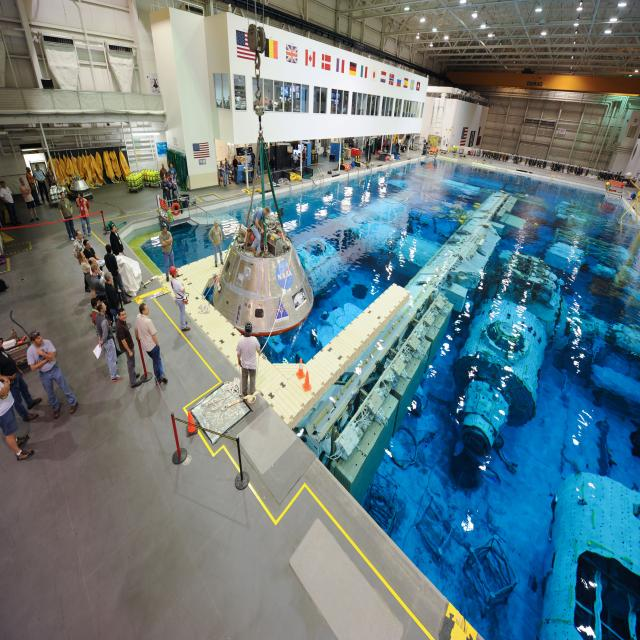Orange_colored_life-ring: (171, 202, 181, 217)
Orion_capsule_mockup_ WEST _located_on_far_end_of_pool: (211, 213, 314, 339)
